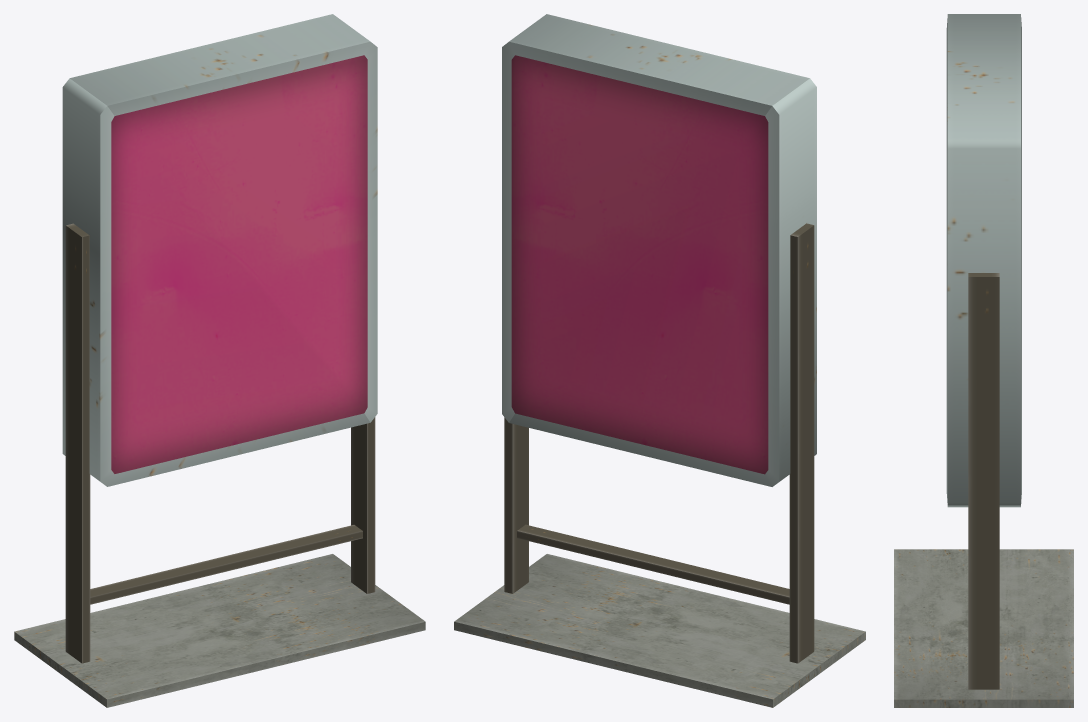
File: menustand01d.fbx
3 views of the same model, side by side, from view 1: azimuth 30°, elevation 25°; view 2: azimuth 150°, elevation 25°; view 3: azimuth 270°, elevation 25° (orthographic). The views are drawn at different scales.
Parts seen in each view (by area): view 1: menustand01d; view 2: menustand01d; view 3: menustand01d.
Part boxes in pixels (x1=…): menustand01d: x1=14, y1=14, x2=425, y2=707; menustand01d: x1=454, y1=14, x2=865, y2=707; menustand01d: x1=894, y1=14, x2=1073, y2=707.
Size of the model in its own units: 62.43 by 108 by 31.49.
